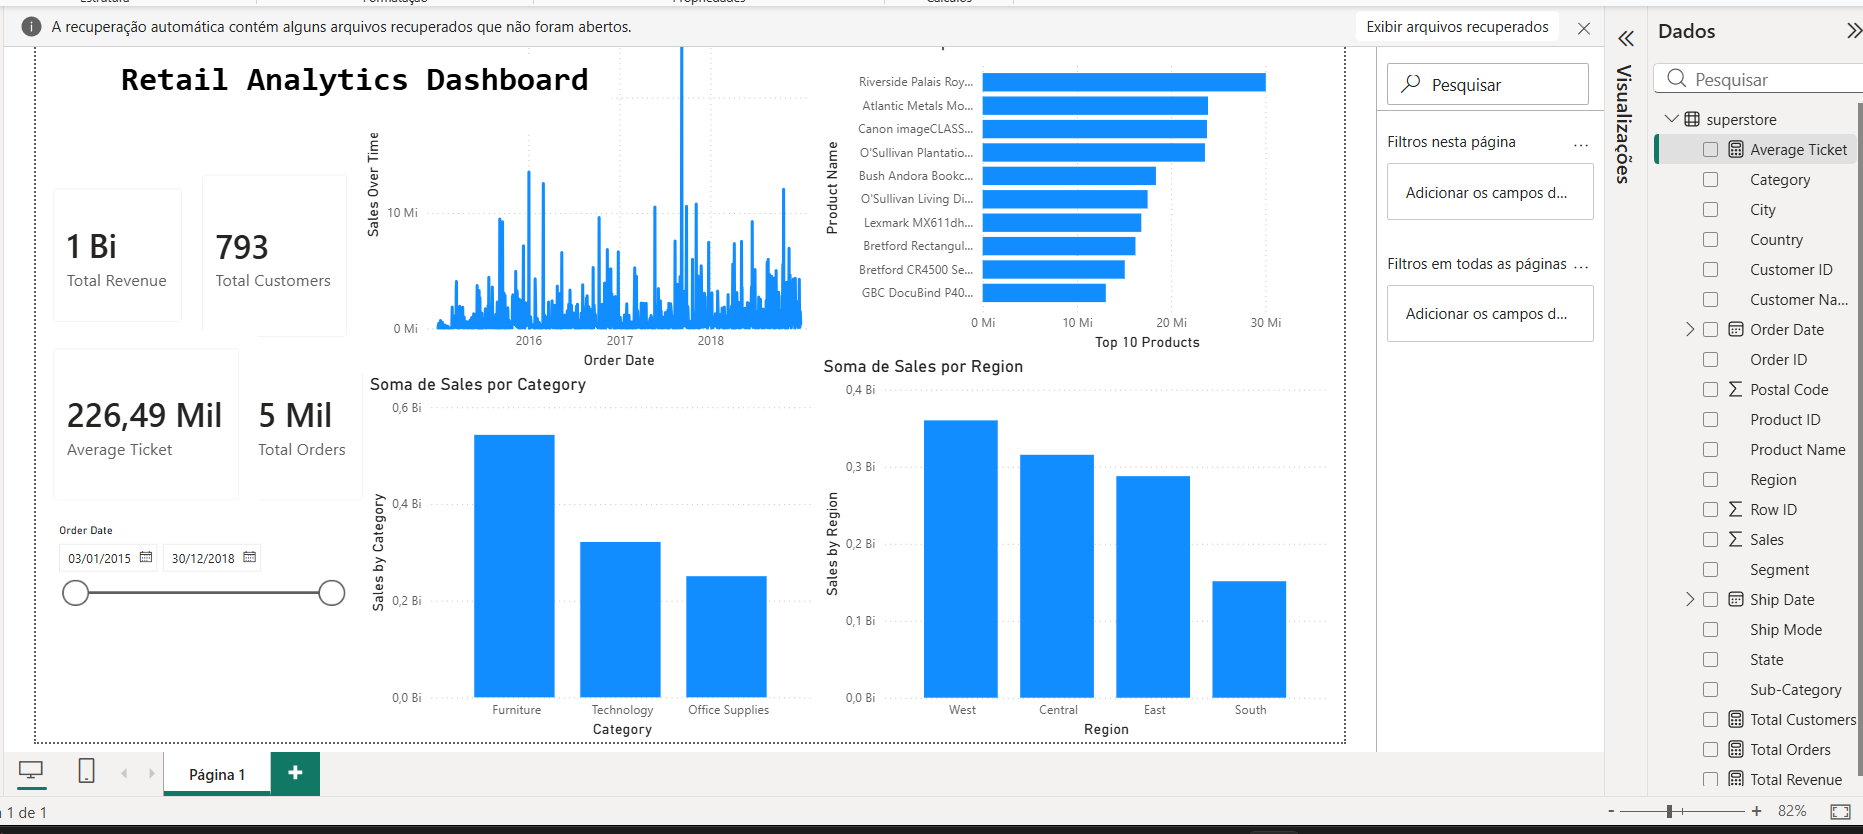

Layout of this report page (visuals, bound fields, positions):
{"tool":"powerbi","page":{"name":"Página 1","canvas":[1280,720],"ordinal":0},"visuals":[{"type":"cardVisual","fields":{"Data":["superstore.Total Revenue"]},"box":[0,161.5,160.2,165.6],"z":0},{"type":"cardVisual","fields":{"Data":["superstore.Total Orders"]},"box":[187.1,317.7,150.8,183.1],"z":1000},{"type":"cardVisual","fields":{"Data":["superstore.Total Customers"]},"box":[145.4,148.1,176.4,193.9],"z":2000},{"type":"cardVisual","fields":{"Data":["superstore.Average Ticket"]},"box":[0,317.7,216.7,183.1],"z":3000},{"type":"lineChart","fields":{"Category":["superstore.Order Date"],"Y":["Sum(superstore.Sales)"]},"box":[316.4,0,449.6,359.4],"z":4000},{"type":"clusteredColumnChart","fields":{"Category":["superstore.Category"],"Y":["Sum(superstore.Sales)"]},"box":[321.8,359.4,444.3,360.8],"z":5000},{"type":"clusteredBarChart","fields":{"Category":["superstore.Product Name"],"Y":["Sum(superstore.Sales)"]},"box":[766,24.2,503.5,317.7],"z":6000},{"type":"clusteredColumnChart","fields":{"Category":["superstore.Region"],"Y":["Sum(superstore.Sales)"]},"box":[766,341.9,503.5,378.3],"z":7000},{"type":"textbox","box":[78.1,47.1,484.6,76.7],"z":8000},{"type":"slicer","fields":{"Values":["superstore.Order Date"]},"box":[9.4,500.8,300.2,137.3],"z":9000}]}

Visuals, with their boxes on the page's 1280x720 design canvas (x1, y1, x2, y2). These are canvas units, not pixel positions in the 1863x834 screenshot, which may show the page scaled, cropped or inside an application window:
cardVisual - superstore.Total Revenue: [0,162,160,327]
cardVisual - superstore.Total Orders: [187,318,338,501]
cardVisual - superstore.Total Customers: [145,148,322,342]
cardVisual - superstore.Average Ticket: [0,318,217,501]
lineChart - superstore.Order Date x Sum(superstore.Sales): [316,0,766,359]
clusteredColumnChart - superstore.Category x Sum(superstore.Sales): [322,359,766,720]
clusteredBarChart - superstore.Product Name x Sum(superstore.Sales): [766,24,1270,342]
clusteredColumnChart - superstore.Region x Sum(superstore.Sales): [766,342,1270,720]
textbox: [78,47,563,124]
slicer - superstore.Order Date: [9,501,310,638]
